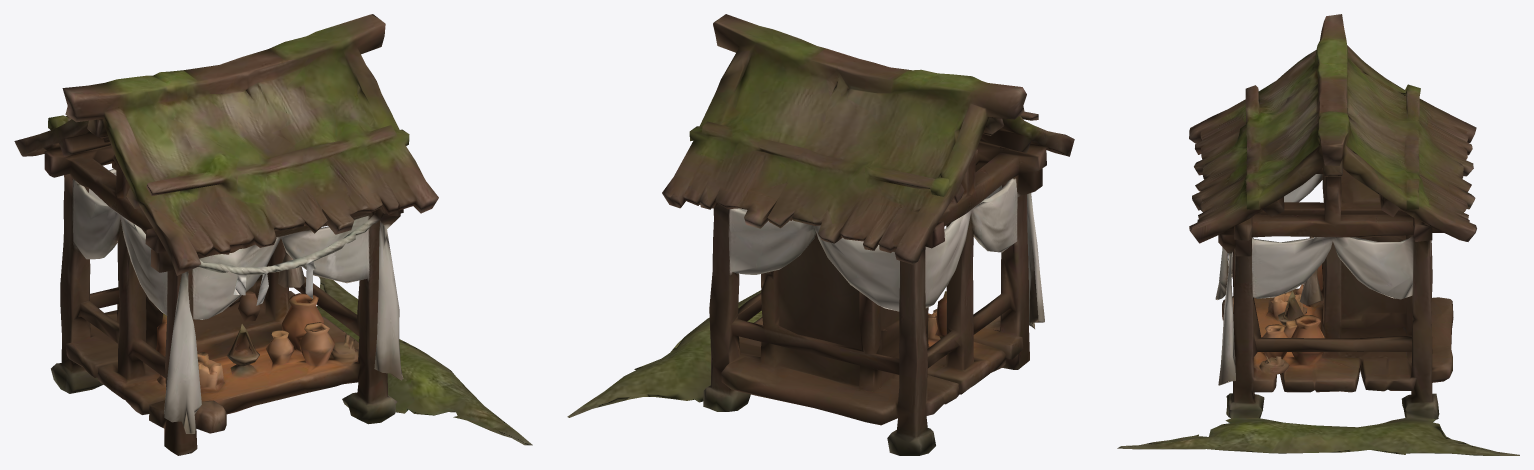
File: sacred_grove_shrine.glb
3 views of the same model, side by side, from view 1: azimuth 30°, elevation 25°; view 2: azimuth 150°, elevation 25°; view 3: azimuth 270°, elevation 25° (orthographic). The views are drawn at different scales.
Visible parts, largest first — view 1: tripo_node_a95c8b21-cfab-4cf0-ab26-03186f54c8a0; view 2: tripo_node_a95c8b21-cfab-4cf0-ab26-03186f54c8a0; view 3: tripo_node_a95c8b21-cfab-4cf0-ab26-03186f54c8a0.
Boxes of the visible parts, <box> form: tripo_node_a95c8b21-cfab-4cf0-ab26-03186f54c8a0: <box>14,14,532,455</box>; tripo_node_a95c8b21-cfab-4cf0-ab26-03186f54c8a0: <box>567,14,1074,455</box>; tripo_node_a95c8b21-cfab-4cf0-ab26-03186f54c8a0: <box>1117,14,1519,455</box>.
Bounding box in the file's own units: 0.8469 × 0.7827 × 1.
Materials: 1 (1 with a texture image).
